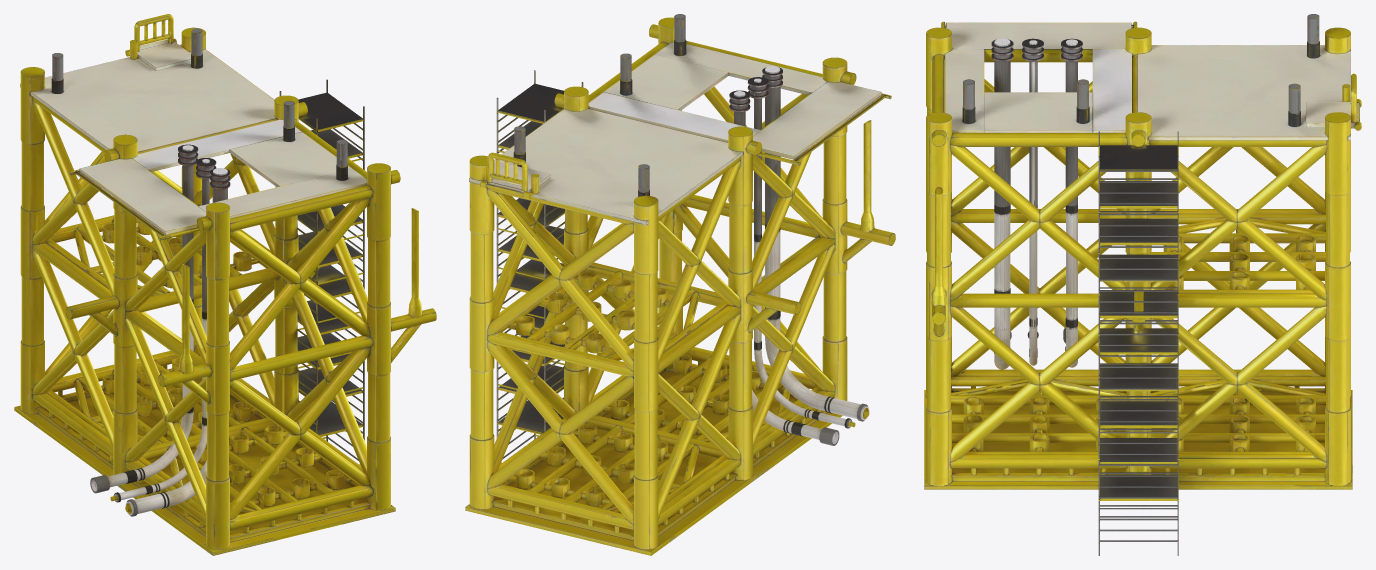
File: bp-jacket-opt-2.glb
The picture shows the model from 3 angles, left to right: view 1: azimuth 30°, elevation 25°; view 2: azimuth 150°, elevation 25°; view 3: azimuth 270°, elevation 25°; orthographic projection. The views are drawn at different scales.
Visible parts, largest first — view 1: MAIN PIPE.001, STAIRS.002, WHITE PIPE.002; view 2: MAIN PIPE.001, WHITE PIPE.002, STAIRS.002; view 3: MAIN PIPE.001, STAIRS.002, WHITE PIPE.002.
Part boxes in pixels (box(x1,y1,x2,y2)): MAIN PIPE.001: box(14, 14, 436, 555); STAIRS.002: box(279, 79, 364, 465); WHITE PIPE.002: box(90, 144, 230, 516); MAIN PIPE.001: box(465, 14, 895, 555); WHITE PIPE.002: box(729, 66, 869, 445); STAIRS.002: box(496, 70, 583, 463); MAIN PIPE.001: box(924, 14, 1361, 489); STAIRS.002: box(1098, 131, 1178, 555); WHITE PIPE.002: box(991, 38, 1082, 369).
Bounding box in the file's own units: 8.8 × 11.86 × 10.92.
3 materials, 3 textured.
